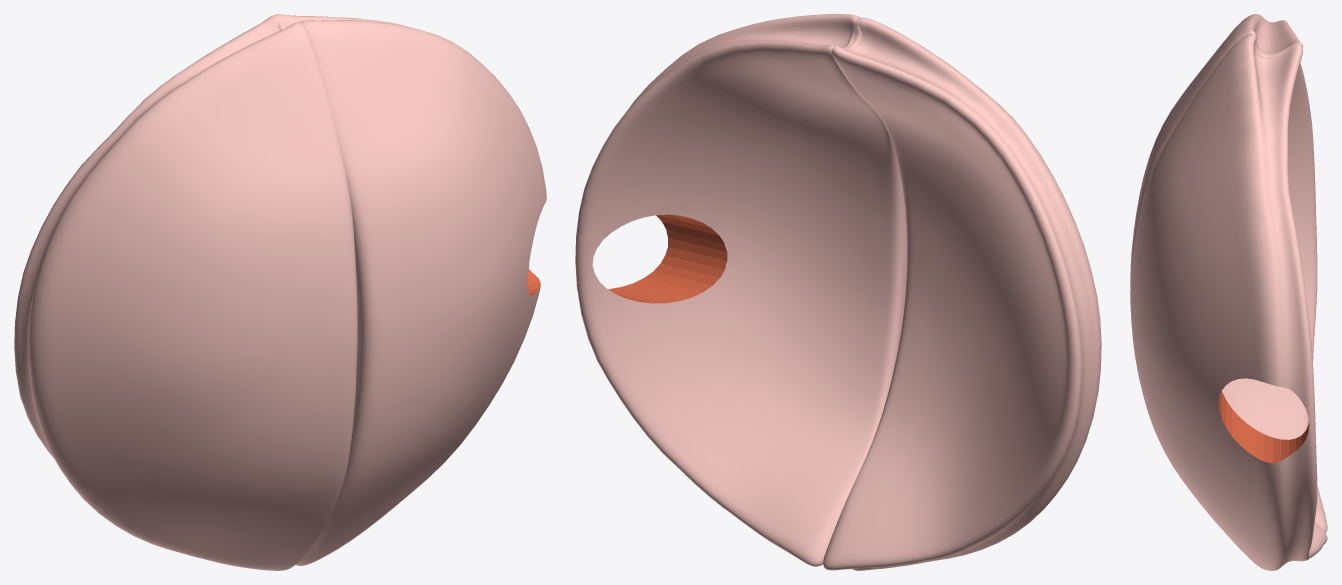
The picture shows the model from 3 angles, left to right: view 1: azimuth 30°, elevation 25°; view 2: azimuth 150°, elevation 25°; view 3: azimuth 270°, elevation 25°; orthographic projection. The views are drawn at different scales.
Visible parts, largest first — view 1: cornea; view 2: cornea; view 3: cornea.
Boxes of the visible parts, x1,y1,x2,y2 form: cornea: [14, 14, 546, 570]; cornea: [575, 14, 1101, 570]; cornea: [1130, 14, 1327, 570].
Size of the model in its own units: 0.3352 by 0.3438 by 0.117.
